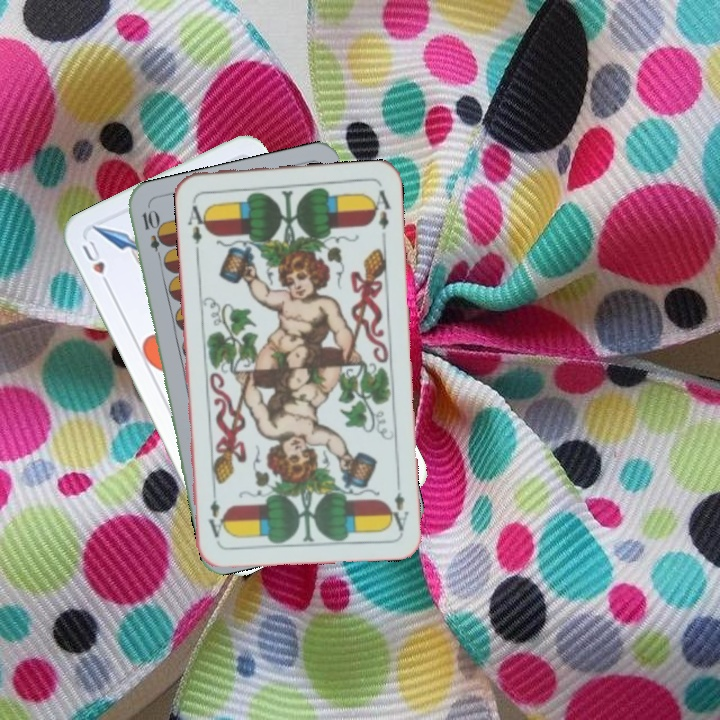E10: (138, 206, 167, 265)
EA: (385, 474, 411, 534), (183, 195, 210, 246)
HU: (78, 236, 114, 292)
